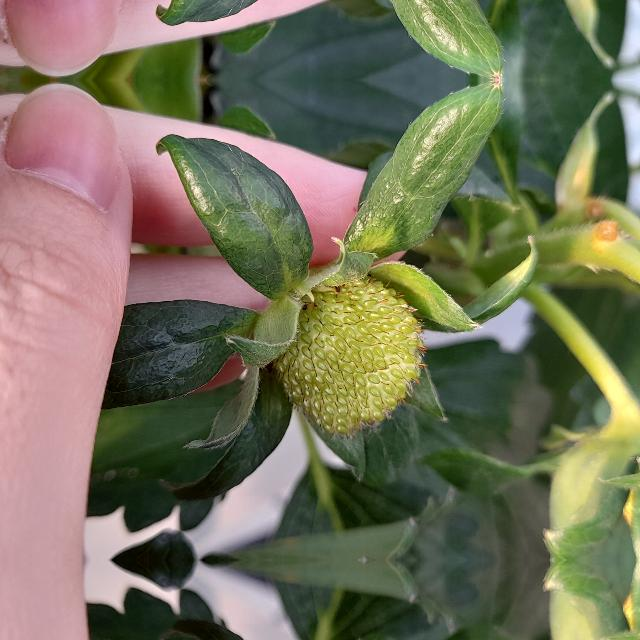Health_25: (270, 273, 428, 439)
